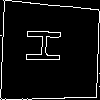H: (25, 27, 71, 65)
